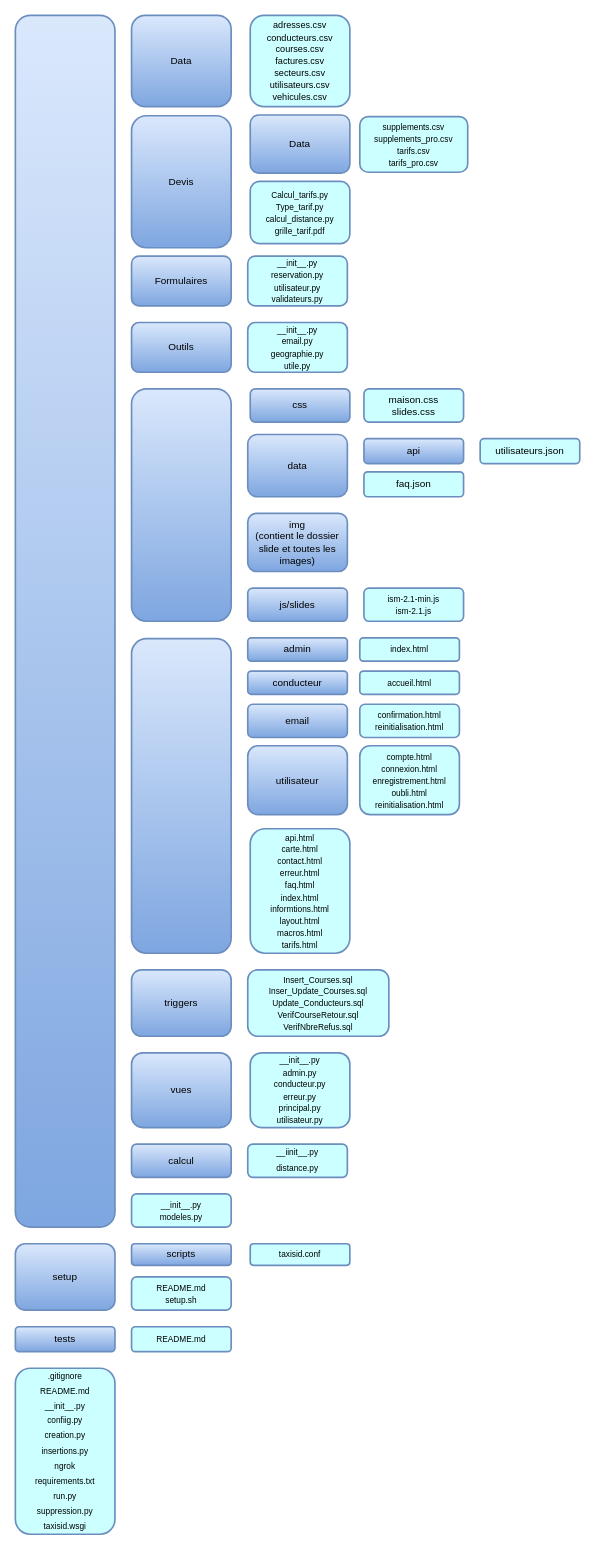
Image size: 594x1549. Some labels were removed from this diagram. Each missing label, with the box of its shape:
App: (14, 14, 115, 1228)
Static: (130, 388, 232, 622)
Templates: (130, 637, 232, 954)
